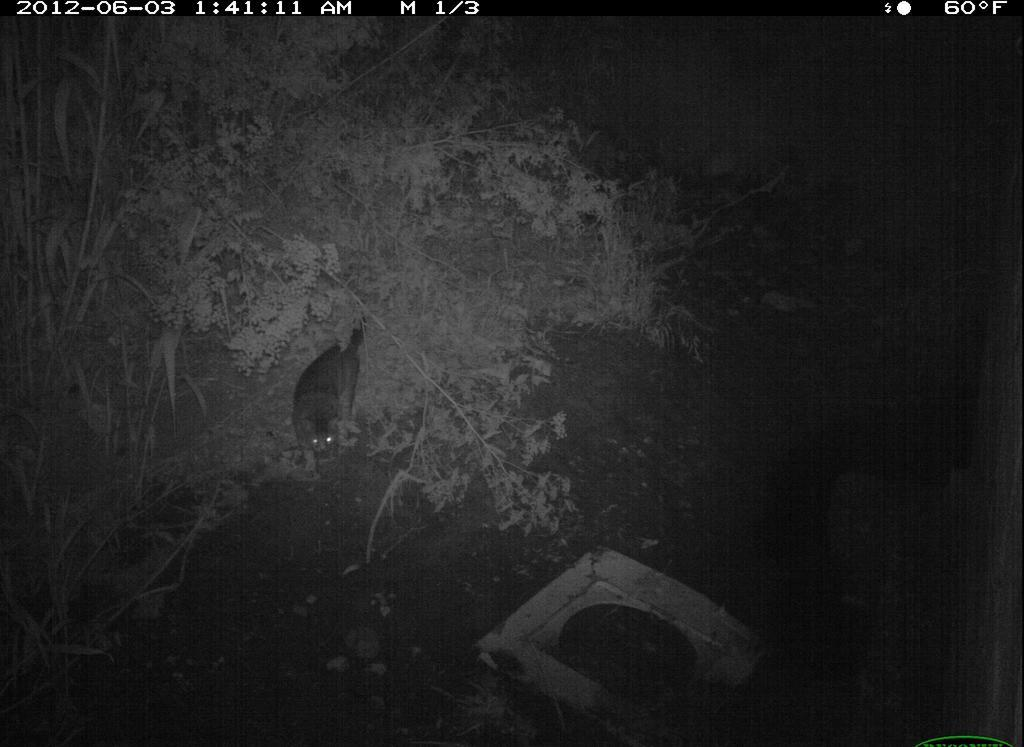cat: (287, 308, 386, 484)
